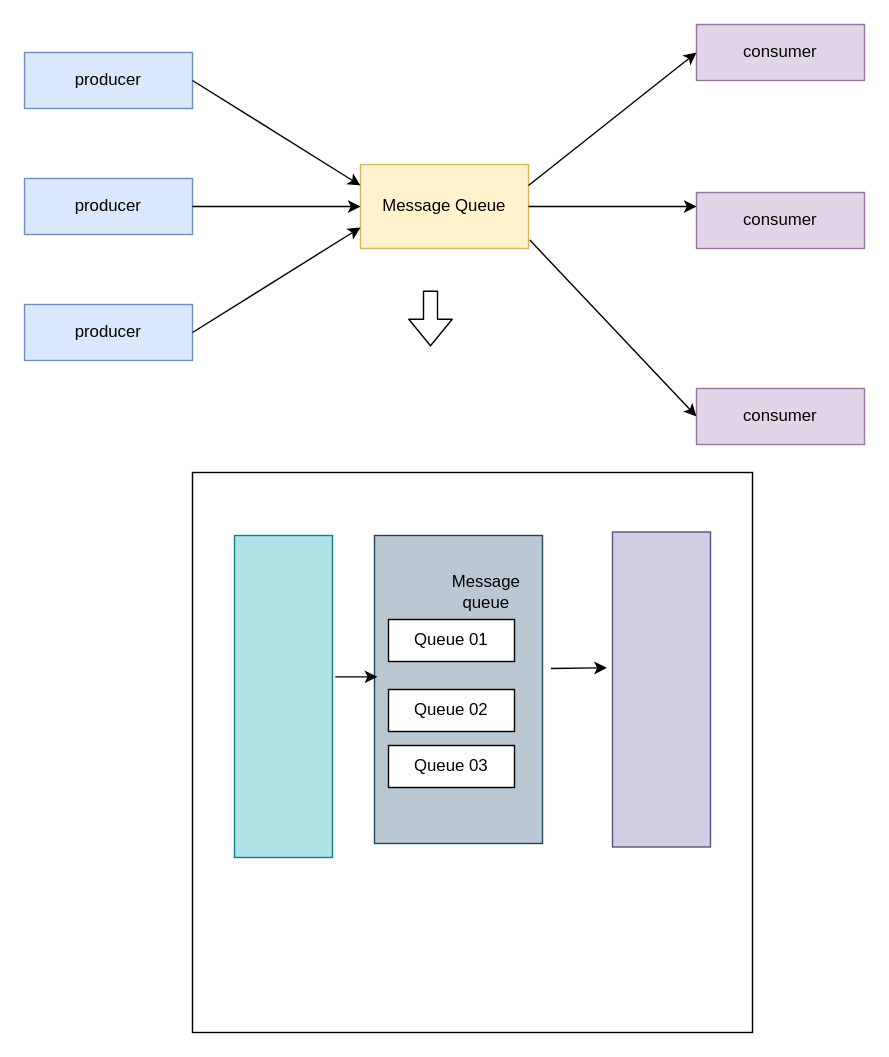
The diagram is 889 pixels wide and 1057 high, and some of its shapes have lost their labels. Each missing label, with the box of its shape:
ML api sever API: (233, 534, 332, 858)
ML nodes: (611, 531, 710, 847)
